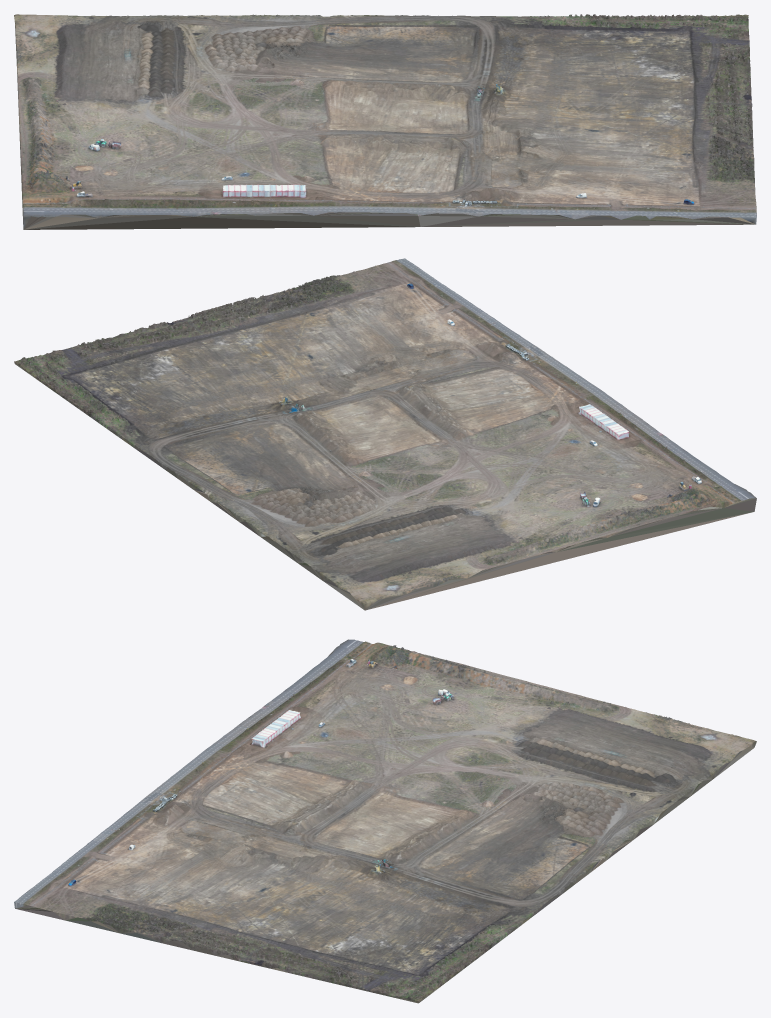
File: big_construction_dig_site_and_heaps.glb
The picture shows the model from 3 angles, top to bottom: view 1: azimuth 30°, elevation 25°; view 2: azimuth 150°, elevation 25°; view 3: azimuth 270°, elevation 25°; orthographic projection. The views are drawn at different scales.
Visible parts, largest first — view 1: Object_2, Object_3, Object_5, Object_4; view 2: Object_3, Object_2, Object_4, Object_5; view 3: Object_3, Object_2, Object_5, Object_4.
Boxes of the visible parts, <box> form: Object_2: <box>24,14,750,229</box>; Object_3: <box>17,15,754,229</box>; Object_5: <box>95,14,756,224</box>; Object_4: <box>14,14,751,207</box>; Object_3: <box>119,288,756,609</box>; Object_2: <box>53,291,716,566</box>; Object_4: <box>14,296,738,610</box>; Object_5: <box>221,258,624,529</box>; Object_3: <box>120,639,636,963</box>; Object_2: <box>63,667,702,973</box>; Object_5: <box>14,688,633,933</box>; Object_4: <box>80,642,756,1003</box>.
Size of the model in its own units: 361 by 12.47 by 322.
Materials: 1 (1 with a texture image).
